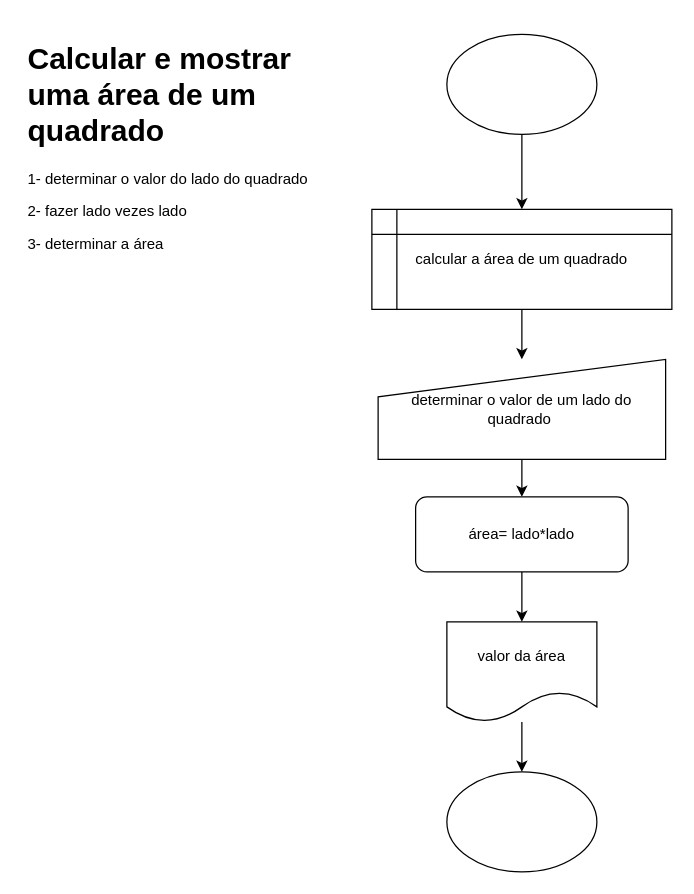
This 694x894 diagram has some shape labels left out. Each missing label, with the centre of its shape:
final: point (521, 821)
inicio: point (521, 83)
